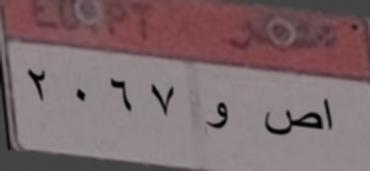0: (70, 82, 92, 110)
2: (26, 66, 50, 107)
6: (103, 73, 136, 117)
7: (148, 77, 180, 126)
alif: (322, 92, 336, 133)
saad: (261, 106, 321, 138)
waw: (201, 96, 231, 138)
